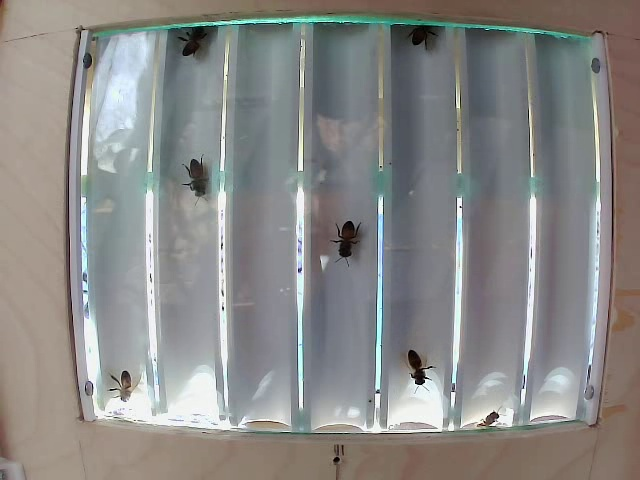bee: (165, 22, 216, 77), (395, 343, 435, 400), (178, 151, 219, 199), (108, 356, 145, 409), (333, 215, 370, 263)
